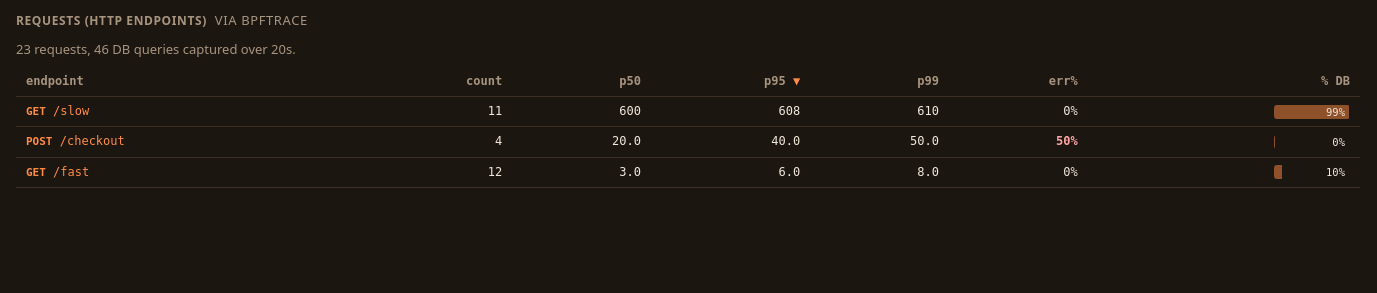
RequestsTab › expands a row into a DB-vs-app breakdown on click
Click the 1st row with test id "endpoint-row": (688, 112) [16,97,1360,127]
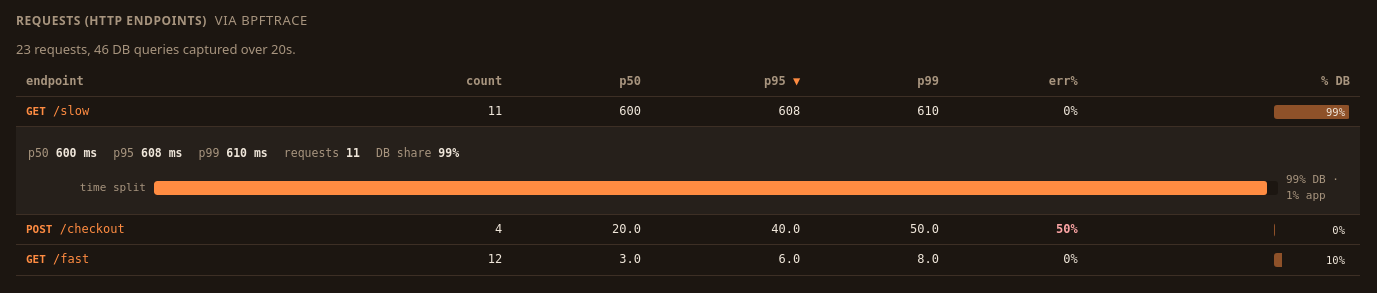
Expected: the element with test id "endpoint-breakdown" is shown, [26,134,1350,208]
Expected: the element with test id "endpoint-breakdown" shows "99% DB", [1286,173,1339,202]
